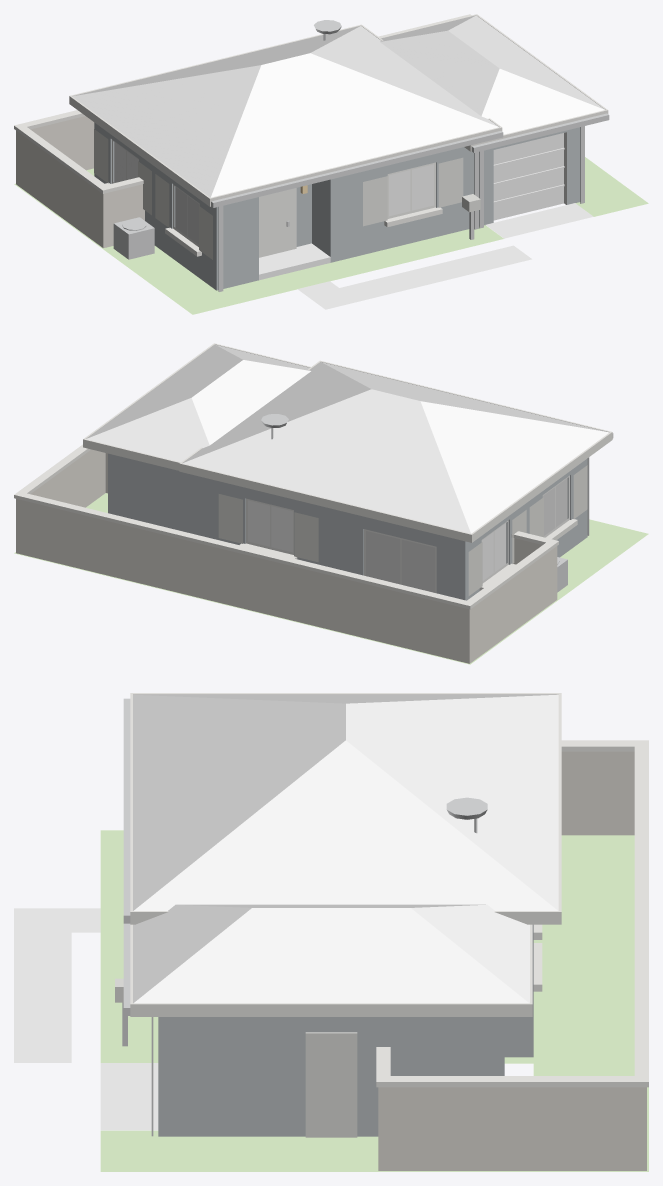
Rendered from house_ranch56s.glb.
3 views of the same model, one above another, from view 1: azimuth 30°, elevation 25°; view 2: azimuth 150°, elevation 25°; view 3: azimuth 270°, elevation 25° (orthographic). The views are drawn at different scales.
Parts seen in each view (by area): view 1: house_ranch56s_Roof, house_ranch56s_Walls, house_ranch56s_Lawn, house_ranch56s_Walls2, house_ranch56s_Trim, house_ranch56s_Site, house_ranch56s_Details, house_ranch56s_Doors, house_ranch56s_Accent, house_ranch56s_Frames, house_ranch56s_Glass, house_ranch56s_WindowsLit; view 2: house_ranch56s_Roof, house_ranch56s_Walls2, house_ranch56s_Walls, house_ranch56s_Trim, house_ranch56s_Accent, house_ranch56s_WindowsLit, house_ranch56s_Lawn, house_ranch56s_Glass, house_ranch56s_Frames, house_ranch56s_Details; view 3: house_ranch56s_Roof, house_ranch56s_Lawn, house_ranch56s_Walls, house_ranch56s_Walls2, house_ranch56s_Trim, house_ranch56s_Site, house_ranch56s_Accent, house_ranch56s_Details.
Part boxes in pixels (left/top/right/bottom): house_ranch56s_Roof: left=72, top=15, right=604, bottom=197; house_ranch56s_Walls: left=94, top=122, right=580, bottom=290; house_ranch56s_Lawn: left=14, top=157, right=648, bottom=314; house_ranch56s_Walls2: left=16, top=116, right=144, bottom=248; house_ranch56s_Trim: left=14, top=14, right=608, bottom=256; house_ranch56s_Site: left=259, top=203, right=593, bottom=309; house_ranch56s_Details: left=113, top=20, right=609, bottom=291; house_ranch56s_Doors: left=493, top=133, right=564, bottom=220; house_ranch56s_Accent: left=94, top=129, right=480, bottom=259; house_ranch56s_Frames: left=112, top=139, right=435, bottom=257; house_ranch56s_Glass: left=114, top=142, right=433, bottom=216; house_ranch56s_WindowsLit: left=175, top=187, right=199, bottom=244; house_ranch56s_Roof: left=86, top=344, right=609, bottom=533; house_ranch56s_Walls2: left=16, top=449, right=557, bottom=663; house_ranch56s_Walls: left=108, top=453, right=587, bottom=600; house_ranch56s_Trim: left=14, top=343, right=612, bottom=609; house_ranch56s_Accent: left=218, top=465, right=587, bottom=595; house_ranch56s_WindowsLit: left=366, top=478, right=567, bottom=592; house_ranch56s_Lawn: left=14, top=493, right=648, bottom=664; house_ranch56s_Glass: left=248, top=500, right=506, bottom=580; house_ranch56s_Frames: left=246, top=475, right=569, bottom=593; house_ranch56s_Details: left=261, top=414, right=613, bottom=592; house_ranch56s_Roof: left=133, top=694, right=558, bottom=1003; house_ranch56s_Lawn: left=100, top=830, right=648, bottom=1171; house_ranch56s_Walls: left=158, top=924, right=533, bottom=1136; house_ranch56s_Walls2: left=378, top=751, right=646, bottom=1170; house_ranch56s_Trim: left=130, top=693, right=648, bottom=1087; house_ranch56s_Site: left=14, top=908, right=158, bottom=1130; house_ranch56s_Accent: left=115, top=978, right=357, bottom=1137; house_ranch56s_Details: left=122, top=698, right=487, bottom=1136.
Bounding box in the file's own units: 56 × 18.22 × 44.
